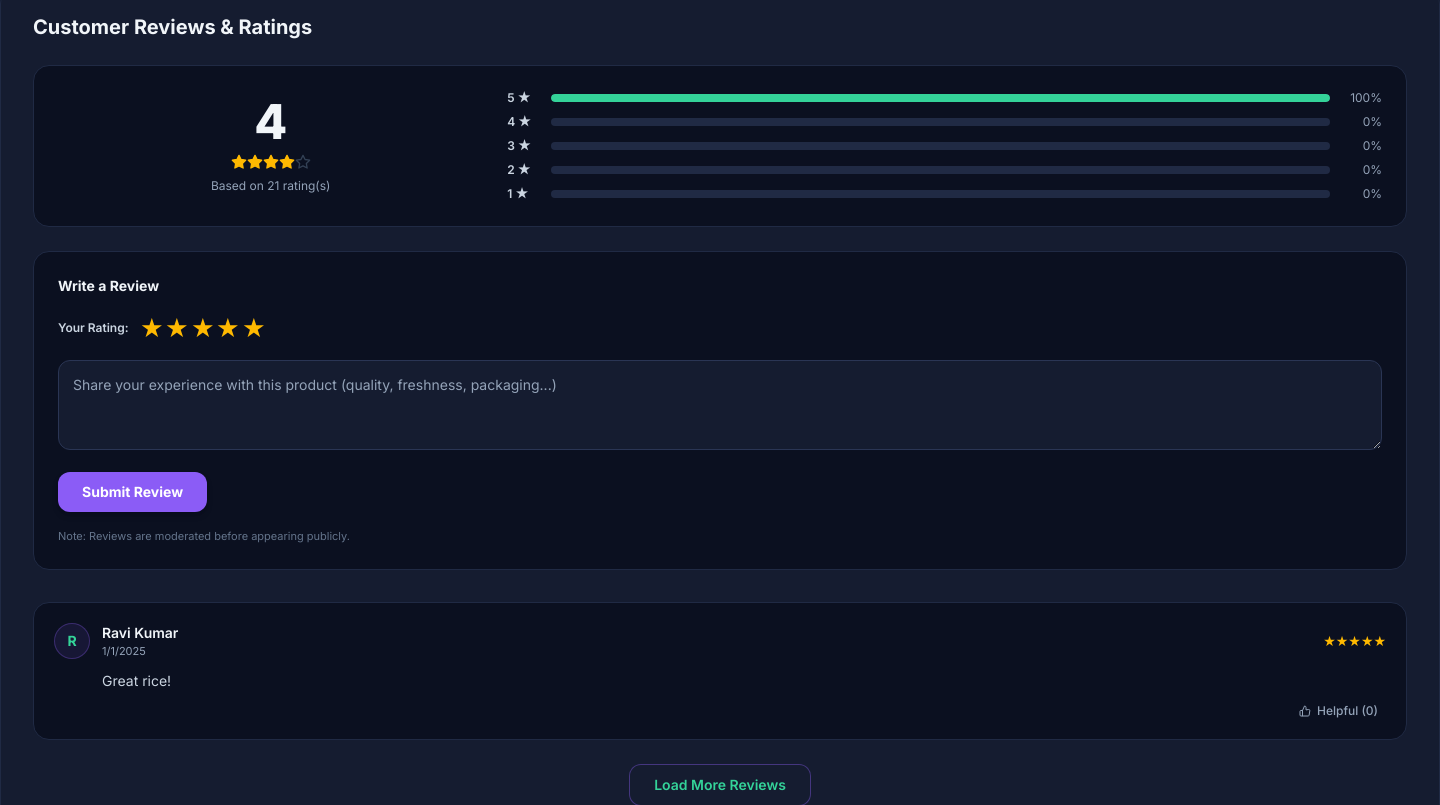
it: ProductDetail Review Edit/Delete › switches to the edit panel after a fresh review is submitted
(page scrolled)
Replace the text in the text box with placeholder "Share your experience" with "Nice rice": (720, 405) [58,360,1382,450]
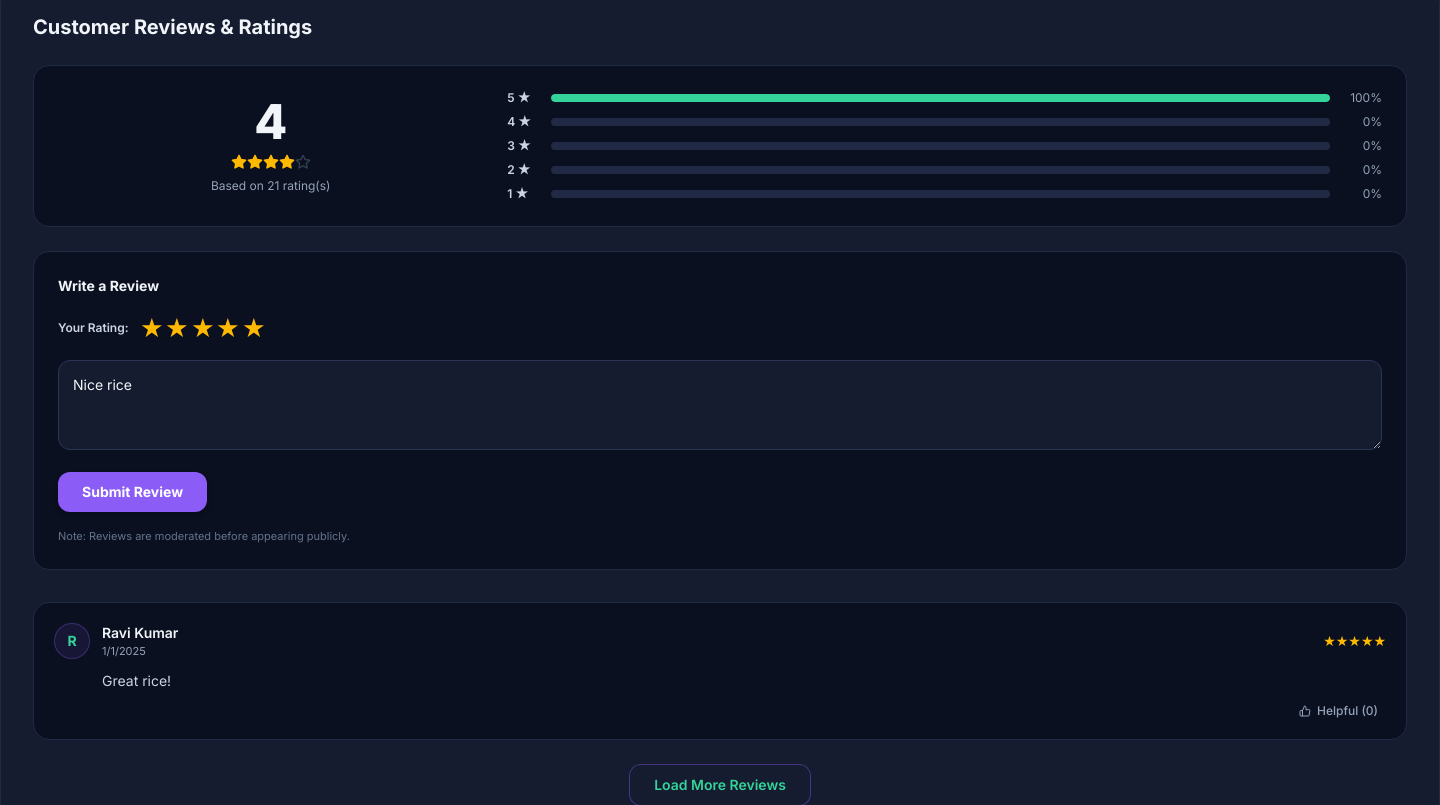
Submit the form "Submit Review", box [33,251,1407,570]
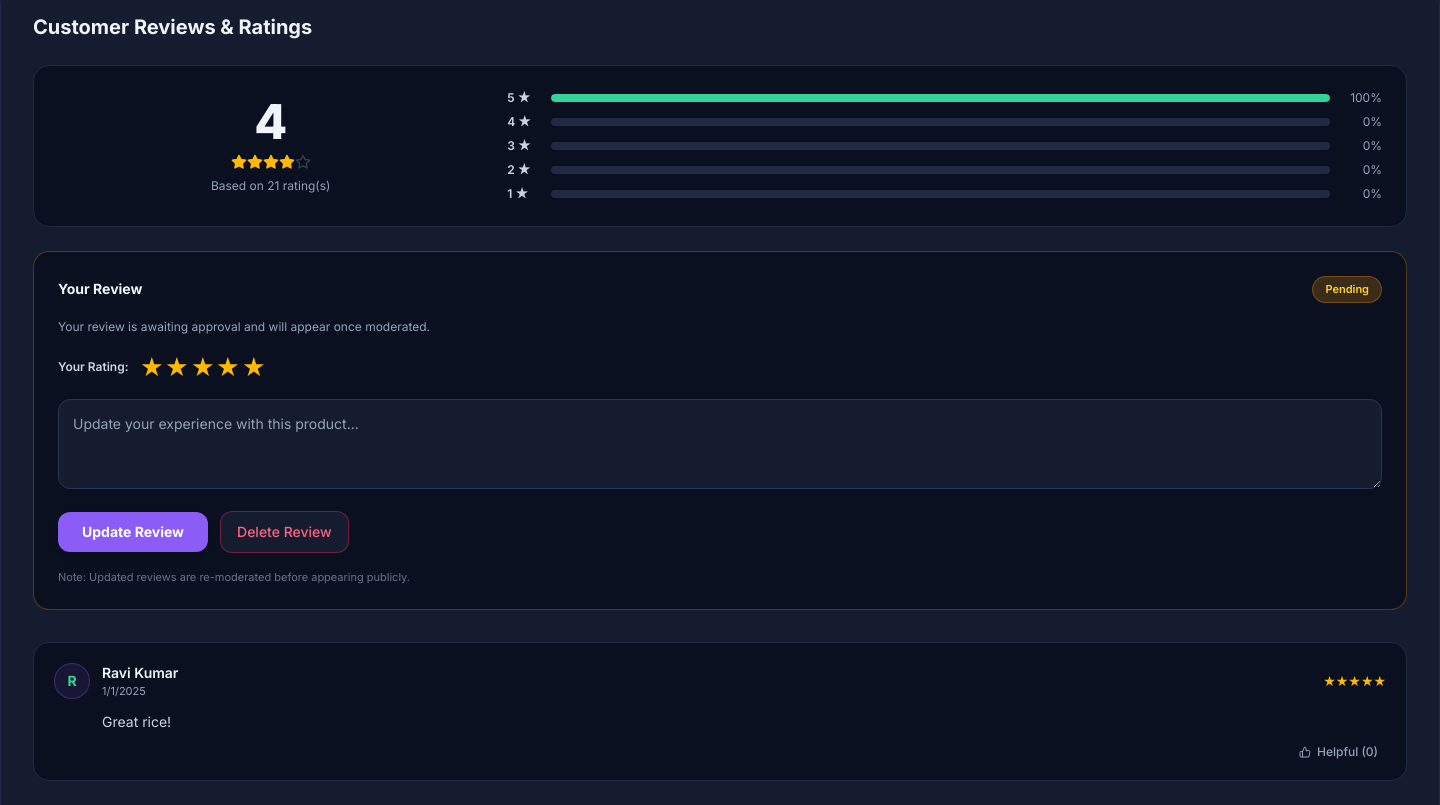
Expected: the button "Update Review" is shown, [58,512,208,552]
